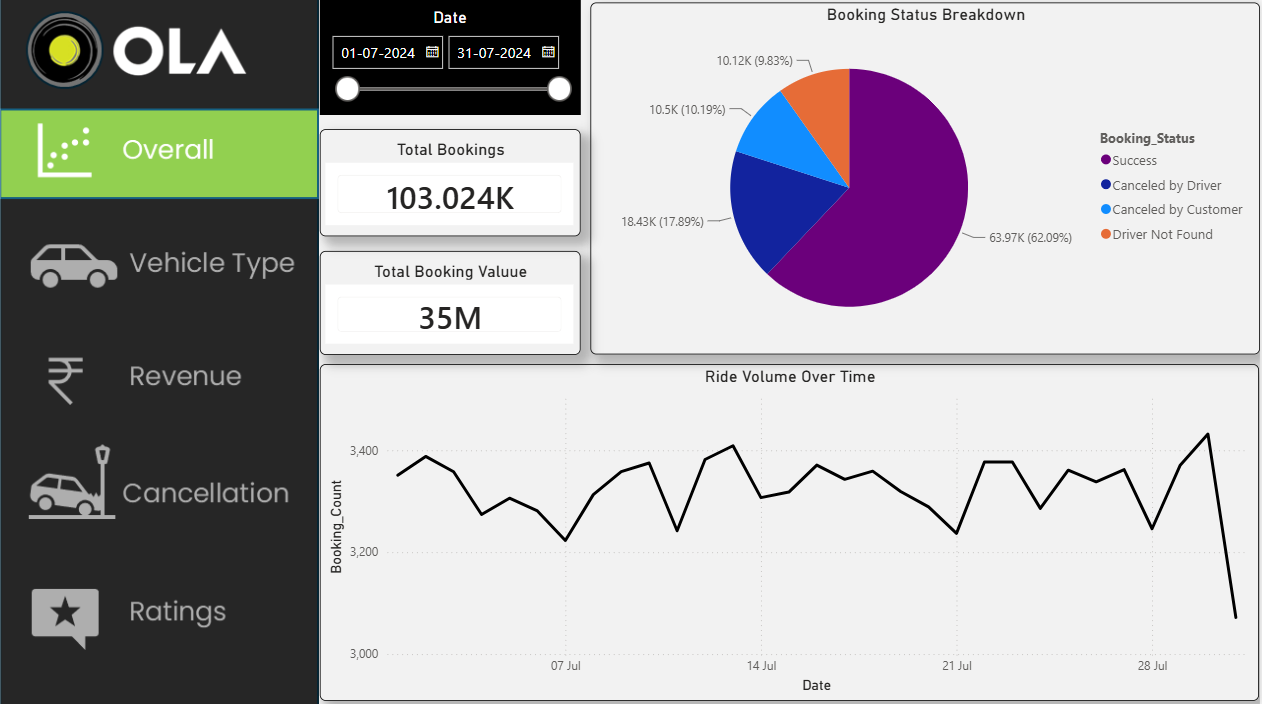

The dashboard page shown, as its layout file describes it:
{"tool":"powerbi","page":{"name":"Overall","canvas":[1280,720],"ordinal":0},"visuals":[{"type":"actionButton","box":[0,220,325,90],"z":0},{"type":"actionButton","box":[0,335,325,90],"z":1000},{"type":"actionButton","box":[0,445,325,90],"z":2000},{"type":"actionButton","box":[0,577.5,325,90],"z":3000},{"type":"lineChart","title":"Ride Volume Over Time","fields":{"Category":["July.Date"],"Y":["CountNonNull(July.Booking_ID)"]},"box":[325.3,369.4,954.8,342.7],"z":4000},{"type":"pieChart","title":"Booking Status Breakdown","fields":{"Category":["July.Booking_Status"],"Y":["CountNonNull(July.Booking_Status)"]},"box":[599.4,2.3,680.7,357.8],"z":5000},{"type":"slicer","title":"Date","fields":{"Values":["July.Date"]},"box":[325.3,0,264.8,116.2],"z":6000},{"type":"cardVisual","title":"Total Bookings","fields":{"Data":["CountNonNull(July.Booking_Id)"]},"box":[325.3,131.3,264.8,109.2],"z":7000},{"type":"cardVisual","title":"Total Booking Valuue","fields":{"Data":["Sum(July.Booking_Value)"]},"box":[325.3,254.4,264.8,105.7],"z":8000}]}

Visuals, with their boxes in screenshot pixels (x1, y1, x2, y2), scaled from the page's 1280x720 canvas onto the 1262x704 screenshot:
actionButton: x1=0, y1=215, x2=320, y2=303
actionButton: x1=0, y1=328, x2=320, y2=416
actionButton: x1=0, y1=435, x2=320, y2=523
actionButton: x1=0, y1=565, x2=320, y2=653
"Ride Volume Over Time" lineChart: x1=321, y1=361, x2=1261, y2=696
"Booking Status Breakdown" pieChart: x1=591, y1=2, x2=1261, y2=352
"Date" slicer: x1=321, y1=0, x2=582, y2=114
"Total Bookings" cardVisual: x1=321, y1=128, x2=582, y2=235
"Total Booking Valuue" cardVisual: x1=321, y1=249, x2=582, y2=352
